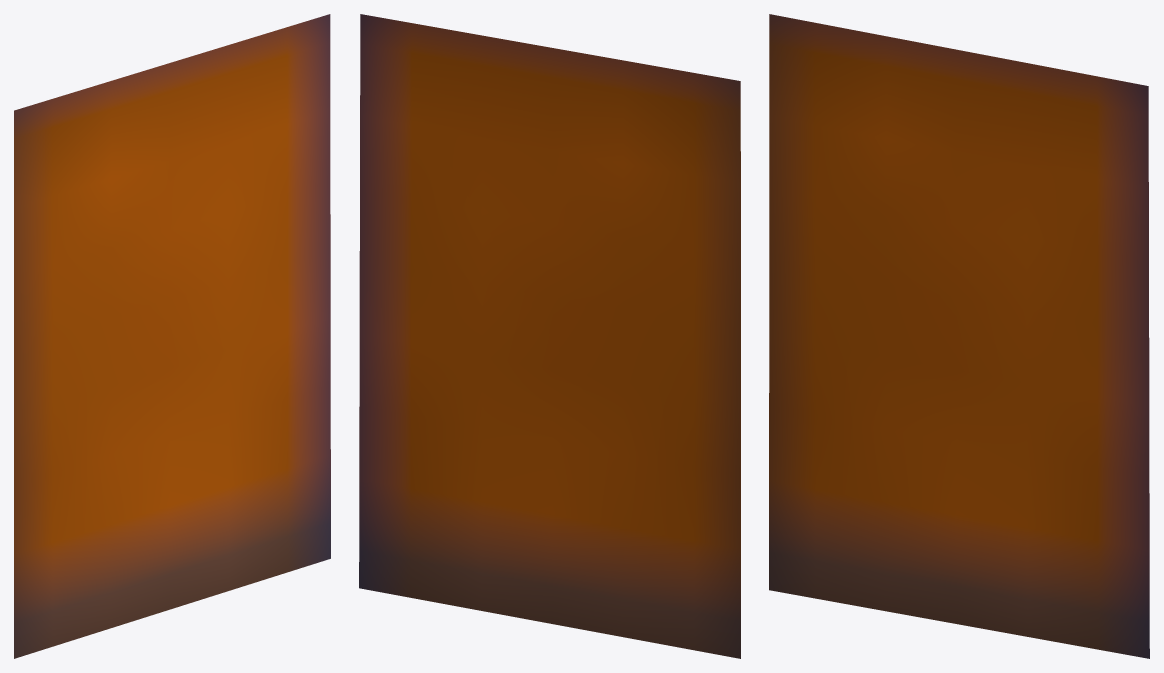
Rendered from Area11_1.fbx.
3 views of the same model, side by side, from view 1: azimuth 30°, elevation 25°; view 2: azimuth 150°, elevation 25°; view 3: azimuth 330°, elevation 25° (orthographic). The views are drawn at different scales.
Parts seen in each view (by area): view 1: Area11_1; view 2: Area11_1; view 3: Area11_1.
Boxes of the visible parts, x1,y1,x2,y2 form: Area11_1: (14, 14, 330, 658); Area11_1: (359, 14, 740, 658); Area11_1: (769, 14, 1149, 658).
Bounding box in the file's own units: 748 × 1155 × 86.52.
